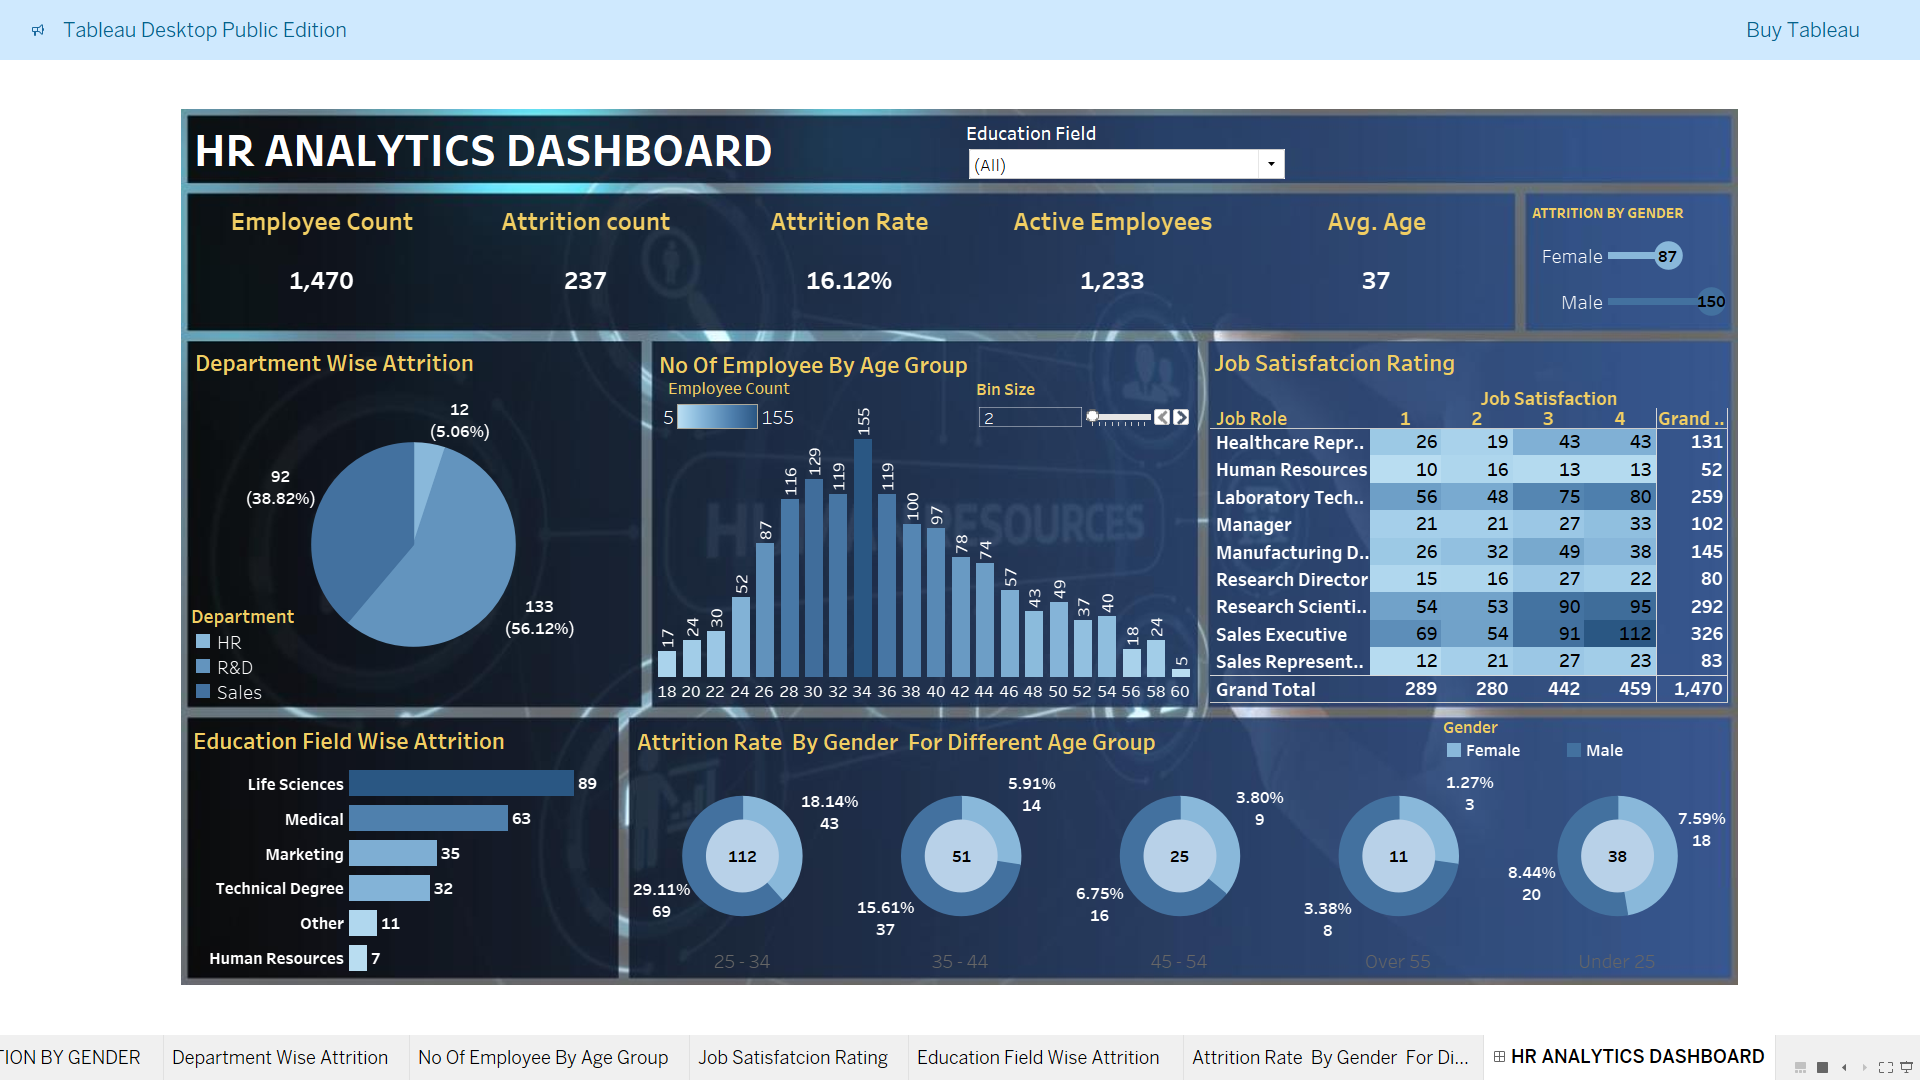

The dashboard page shown, as its layout file describes it:
{"tool":"tableau","page":{"name":"HR ANALYTICS DASHBOARD","canvas":[1600,900],"ordinal":0},"visuals":[{"type":"image","param":"Image/HR background.pptx (1).jpg","box":[8,8,1584,884]},{"type":"text","box":[30,22,825,59]},{"type":"filter","title":"Education Field Wise Attrition","param":"[federated.0yuc4n20efch8p19arblq0b5gzem].[none:Education Field:nk]","box":[806,23,322,62]},{"type":"worksheet","title":"KPI","mark":"Automatic","box":[30,100,1319,126]},{"type":"worksheet","title":"ATTRITION BY GENDER ","mark":"Automatic","rows":["Gender"],"cols":["Calculation_725079599416971264","Calculation_725079599416971264"],"box":[1368,102,204,125]},{"type":"worksheet","title":"Department Wise Attrition","mark":"Pie","box":[31,246,445,358]},{"type":"worksheet","title":"Job Satisfatcion Rating","mark":"Square","rows":["Job Role"],"cols":["Job Satisfaction"],"box":[1050,246,518,360]},{"type":"worksheet","title":"No Of Employee By Age Group","mark":"Automatic","rows":["Employee Count"],"cols":["Age (bin)"],"box":[495,248,538,358]},{"type":"legend","title":"No Of Employee By Age Group","param":"[federated.0yuc4n20efch8p19arblq0b5gzem].[sum:Employee Count:qk]","box":[499,280,140,65]},{"type":"parameter","param":"[Parameters].[Parameter 1]","box":[816,281,216,54]},{"type":"legend","title":"Department Wise Attrition","param":"[federated.0yuc4n20efch8p19arblq0b5gzem].[none:Department:nk]","box":[31,506,140,101]},{"type":"legend","title":"Attrition Rate  By Gender  For Different Age Group","param":"[federated.0yuc4n20efch8p19arblq0b5gzem].[none:Gender:nk]","box":[1283,619,291,53]},{"type":"worksheet","title":"Education Field Wise Attrition","mark":"Automatic","rows":["Education Field"],"cols":["Calculation_725079599416971264"],"box":[29,624,425,254]},{"type":"worksheet","title":"Attrition Rate  By Gender  For Different Age Group","mark":"Pie","rows":["Calculation_725079599531241477","Calculation_725079599531241477"],"cols":["CF_age band"],"box":[473,625,1094,252]}]}

Visuals, with their boxes on the page's 1600x900 design canvas (x1, y1, x2, y2). These are canvas units, not pixel positions in the 1920x1080 screenshot, which may show the page scaled, cropped or inside an application window:
image: bbox=(8, 8, 1592, 892)
text: bbox=(30, 22, 855, 81)
"Education Field Wise Attrition" filter: bbox=(806, 23, 1128, 85)
"KPI" worksheet: bbox=(30, 100, 1349, 226)
"ATTRITION BY GENDER " worksheet: bbox=(1368, 102, 1572, 227)
"Department Wise Attrition" worksheet (Pie marks): bbox=(31, 246, 476, 604)
"Job Satisfatcion Rating" worksheet (Square marks): bbox=(1050, 246, 1568, 606)
"No Of Employee By Age Group" worksheet: bbox=(495, 248, 1033, 606)
"No Of Employee By Age Group" legend: bbox=(499, 280, 639, 345)
parameter: bbox=(816, 281, 1032, 335)
"Department Wise Attrition" legend: bbox=(31, 506, 171, 607)
"Attrition Rate  By Gender  For Different Age Group" legend: bbox=(1283, 619, 1574, 672)
"Education Field Wise Attrition" worksheet: bbox=(29, 624, 454, 878)
"Attrition Rate  By Gender  For Different Age Group" worksheet (Pie marks): bbox=(473, 625, 1567, 877)
